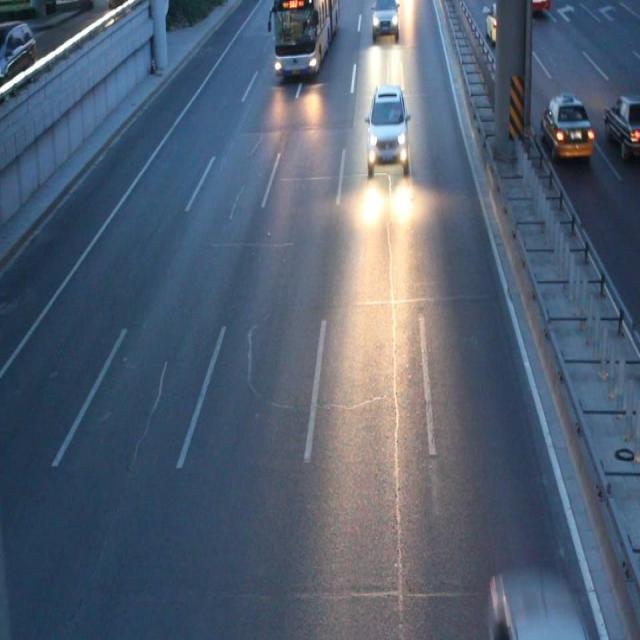car: (539, 91, 592, 154), (366, 84, 407, 162), (602, 94, 640, 158), (485, 1, 511, 40), (371, 1, 398, 36)
truck: (486, 566, 585, 640)
van: (273, 1, 339, 69), (514, 1, 549, 12)
